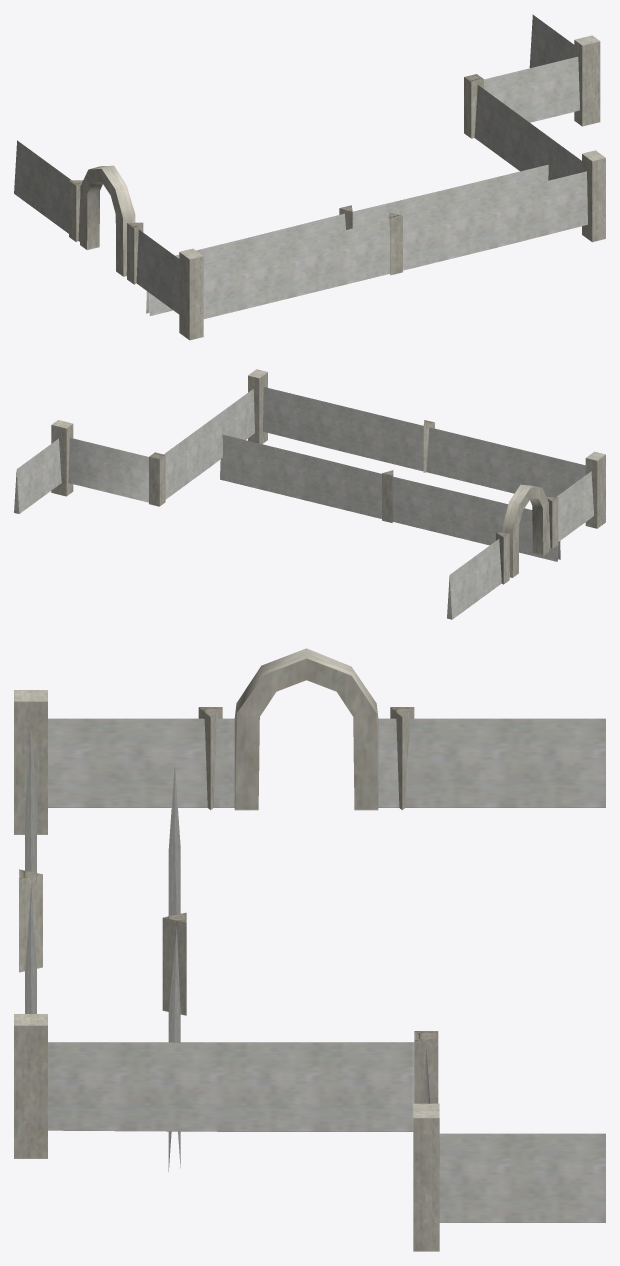
File: poi_corl_corral_half_64x64_s03_l1.fbx
The picture shows the model from 3 angles, top to bottom: view 1: azimuth 30°, elevation 25°; view 2: azimuth 150°, elevation 25°; view 3: azimuth 270°, elevation 25°; orthographic projection. The views are drawn at different scales.
Parts seen in each view (by area): view 1: mesh_node; view 2: mesh_node; view 3: mesh_node.
Part boxes in pixels (bbox=[...]): mesh_node: bbox=[14, 14, 605, 340]; mesh_node: bbox=[14, 369, 605, 619]; mesh_node: bbox=[14, 648, 605, 1251].
Size of the model in its own units: 42.26 by 9 by 24.71.
1 material, 1 textured.
